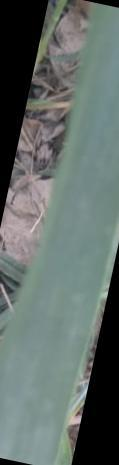Wheat: (4, 332, 55, 454), (48, 236, 96, 319), (69, 143, 114, 230), (89, 19, 119, 137)
